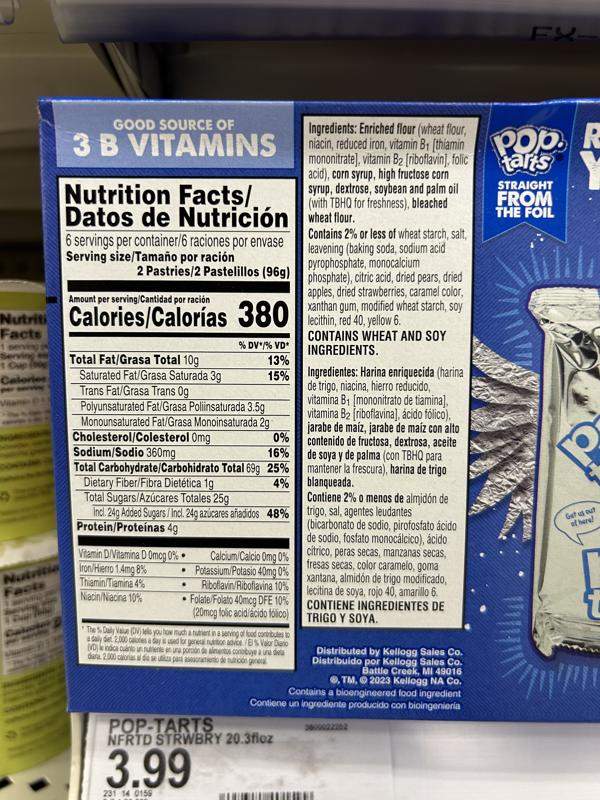ingredients: (306, 120, 470, 225)
